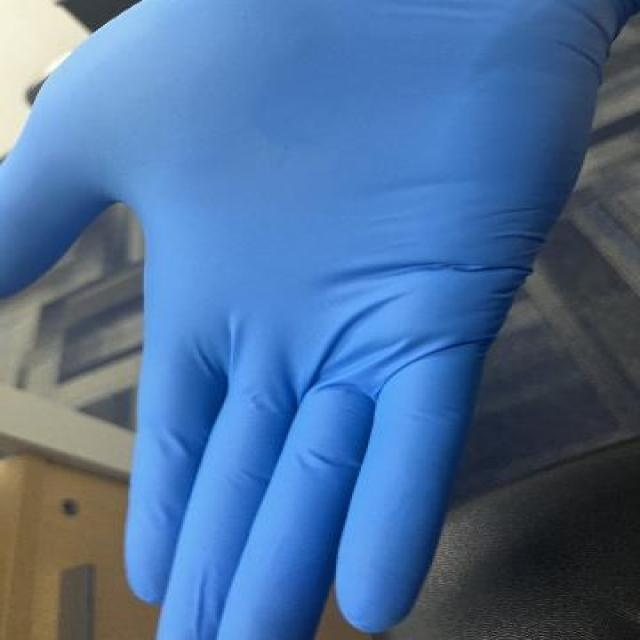Guantes: (0, 0, 637, 639)
